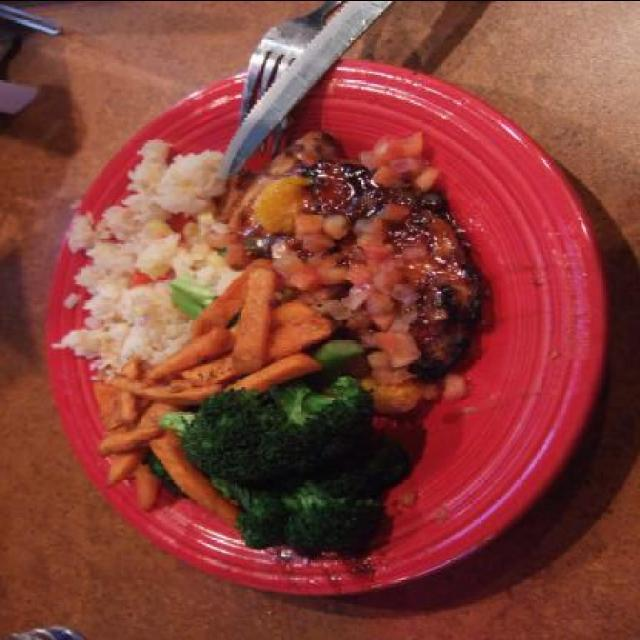Broccoli: (150, 274, 416, 556)
